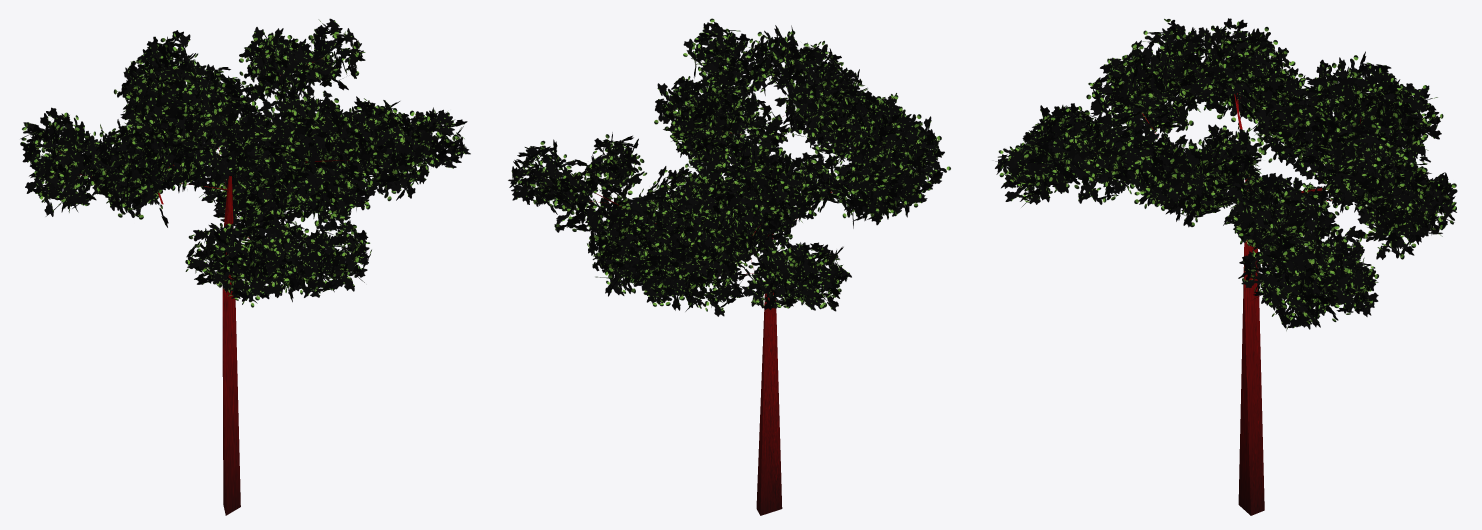
File: pine_open_v01_LOD1.glb
The picture shows the model from 3 angles, left to right: view 1: azimuth 30°, elevation 25°; view 2: azimuth 150°, elevation 25°; view 3: azimuth 270°, elevation 25°; orthographic projection. The views are drawn at different scales.
Visible parts, largest first — view 1: pine_open_v01_LOD1; view 2: pine_open_v01_LOD1; view 3: pine_open_v01_LOD1.
Boxes of the visible parts, bbox=[...] form: pine_open_v01_LOD1: bbox=[20, 18, 470, 515]; pine_open_v01_LOD1: bbox=[508, 18, 950, 515]; pine_open_v01_LOD1: bbox=[995, 18, 1457, 515].
Bounding box in the file's own units: 13.11 × 16.33 × 15.13.
2 materials, 2 textured.
